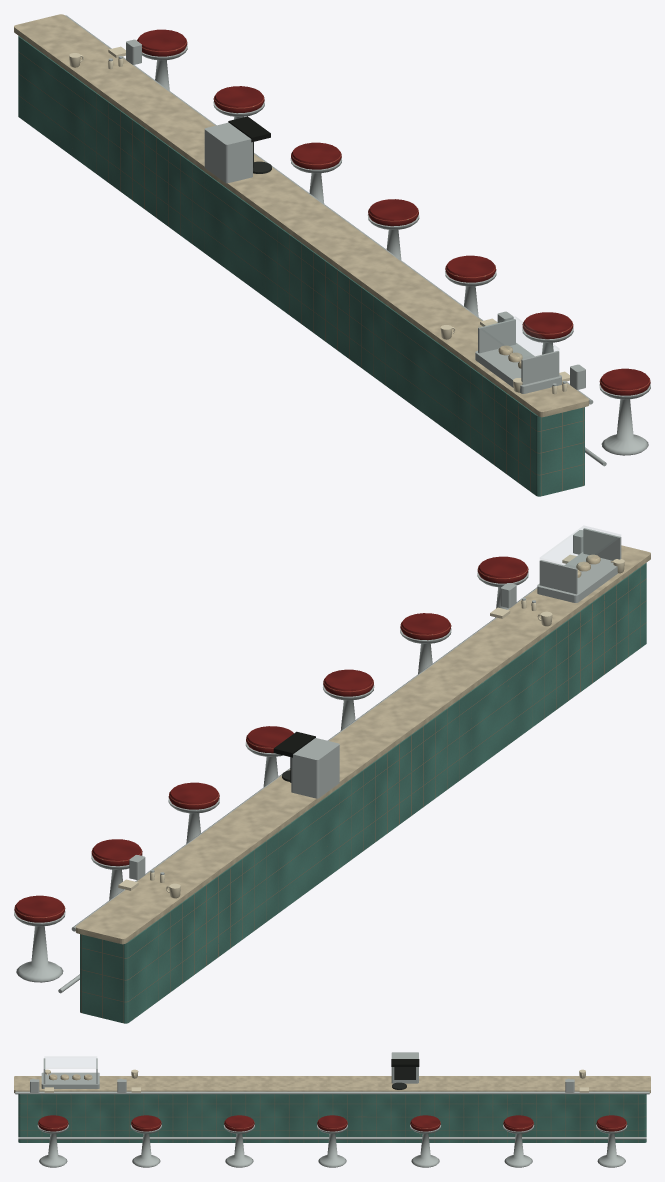
Rendered from SM_Mesa_Counter.glb.
The picture shows the model from 3 angles, top to bottom: view 1: azimuth 30°, elevation 25°; view 2: azimuth 150°, elevation 25°; view 3: azimuth 270°, elevation 25°; orthographic projection. The views are drawn at different scales.
Visible parts, largest first — view 1: SM_Mesa_Counter; view 2: SM_Mesa_Counter; view 3: SM_Mesa_Counter.
Part boxes in pixels (<box>): SM_Mesa_Counter: <box>14,14,650,496</box>; SM_Mesa_Counter: <box>14,528,650,1023</box>; SM_Mesa_Counter: <box>14,1052,650,1167</box>.
Size of the model in its own units: 1.68 by 1.46 by 10.95.
Materials: 10 (4 with a texture image).
